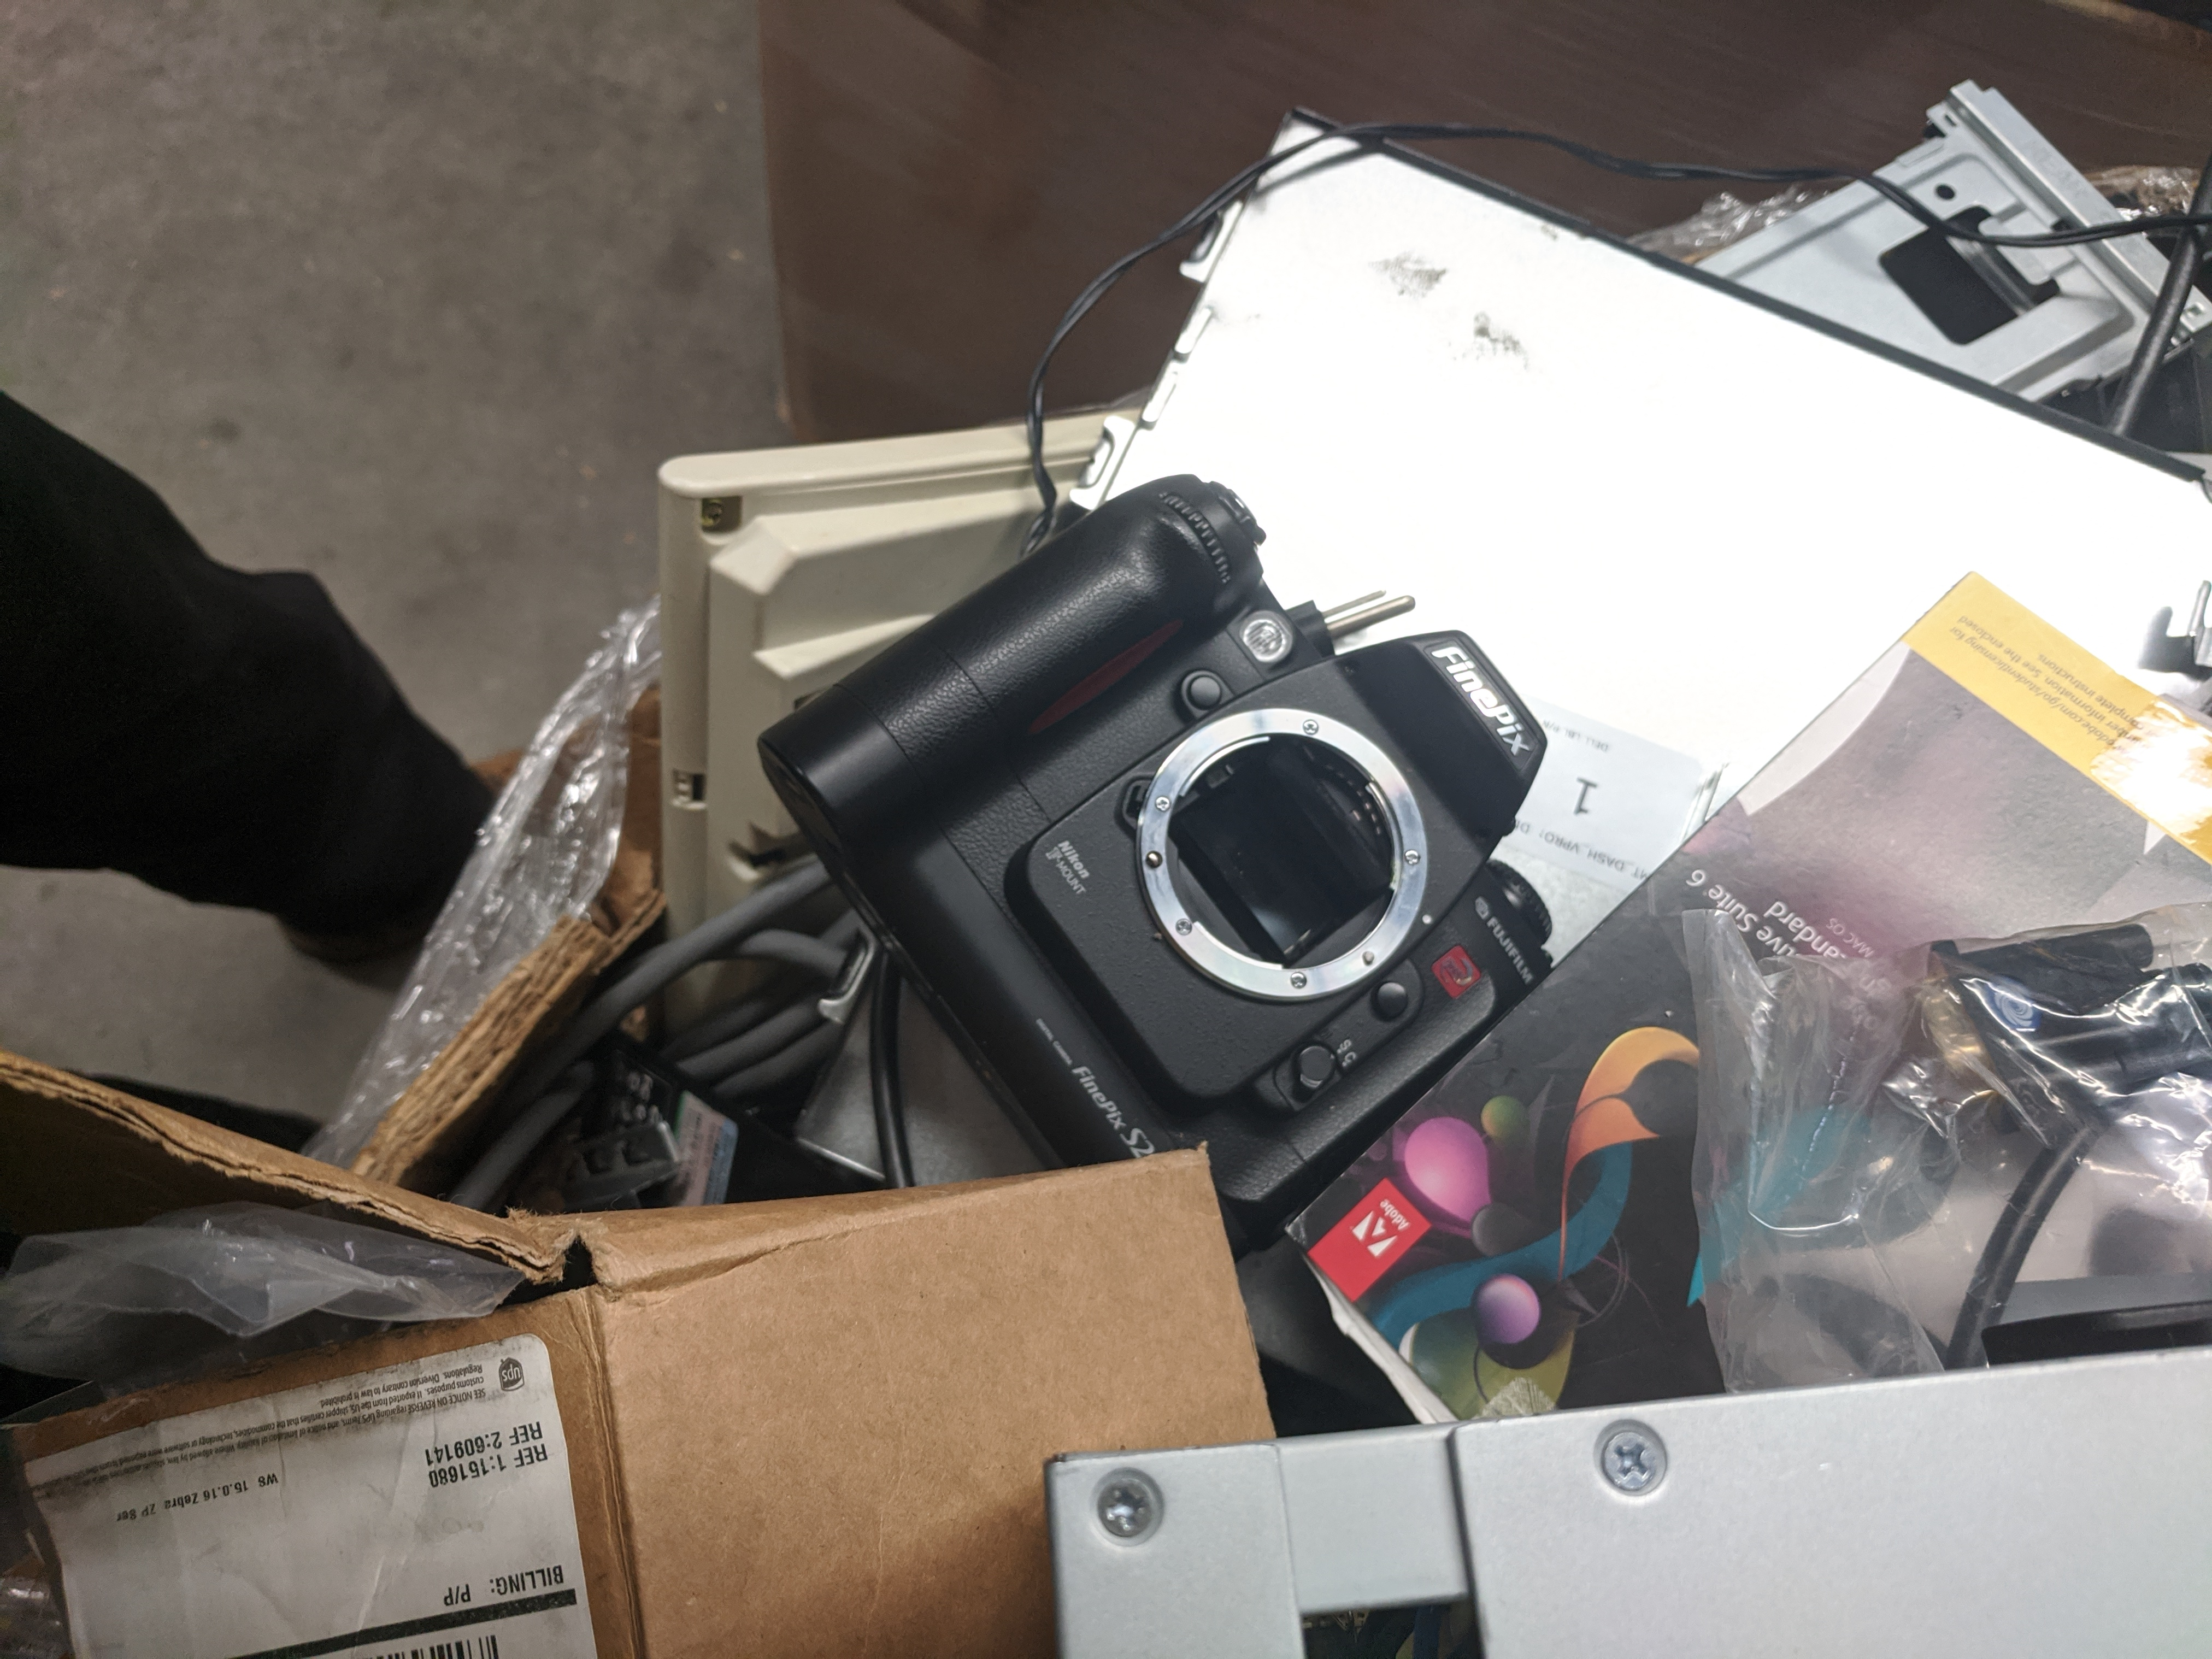cross_recessed_screw: (1094, 1466, 1169, 1546), (1590, 1420, 1669, 1495)
